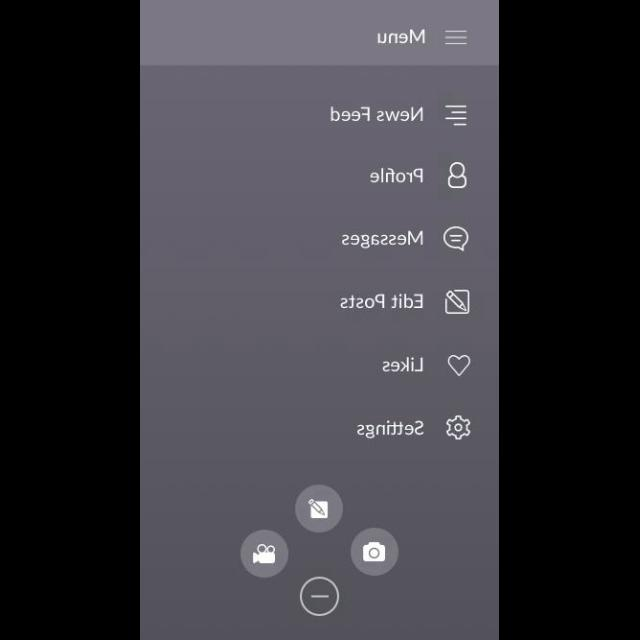icon: (296, 484, 344, 534), (350, 528, 400, 576), (299, 576, 341, 616), (446, 414, 472, 441), (444, 227, 468, 253), (444, 290, 470, 314), (444, 106, 468, 128), (448, 163, 468, 189), (448, 355, 470, 377), (444, 30, 468, 46)
image: (240, 530, 290, 578)
text: (342, 230, 422, 250), (330, 107, 424, 123), (340, 292, 422, 310), (356, 419, 426, 439), (370, 167, 422, 183), (376, 29, 426, 45), (383, 358, 423, 372)
